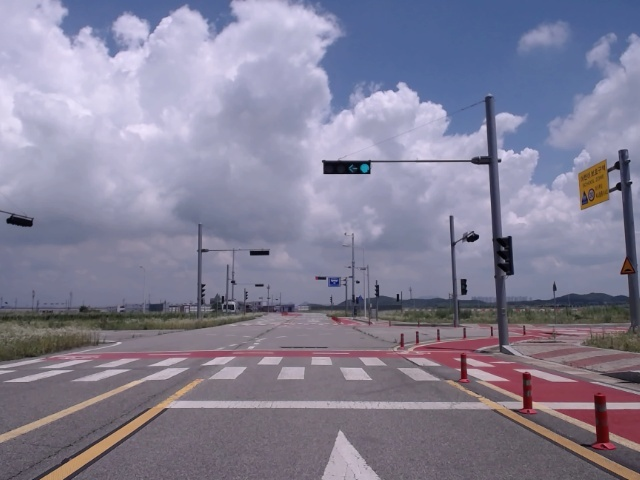all_green_4: (322, 159, 373, 174)
